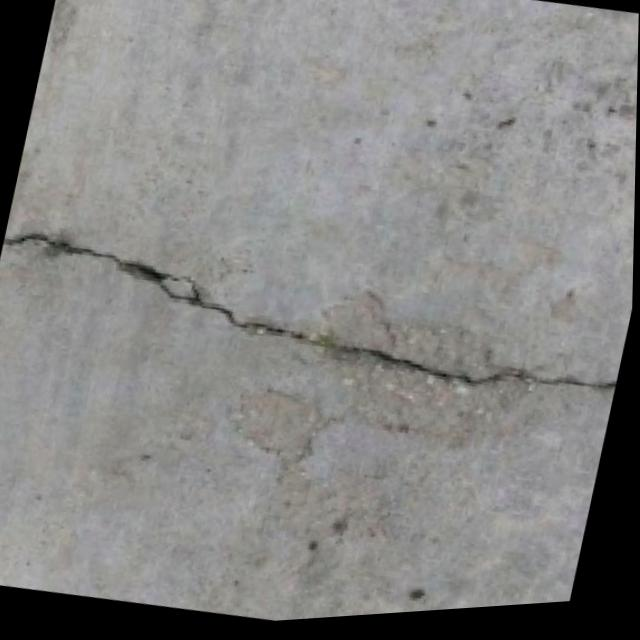Crack: (0, 165, 637, 493)
